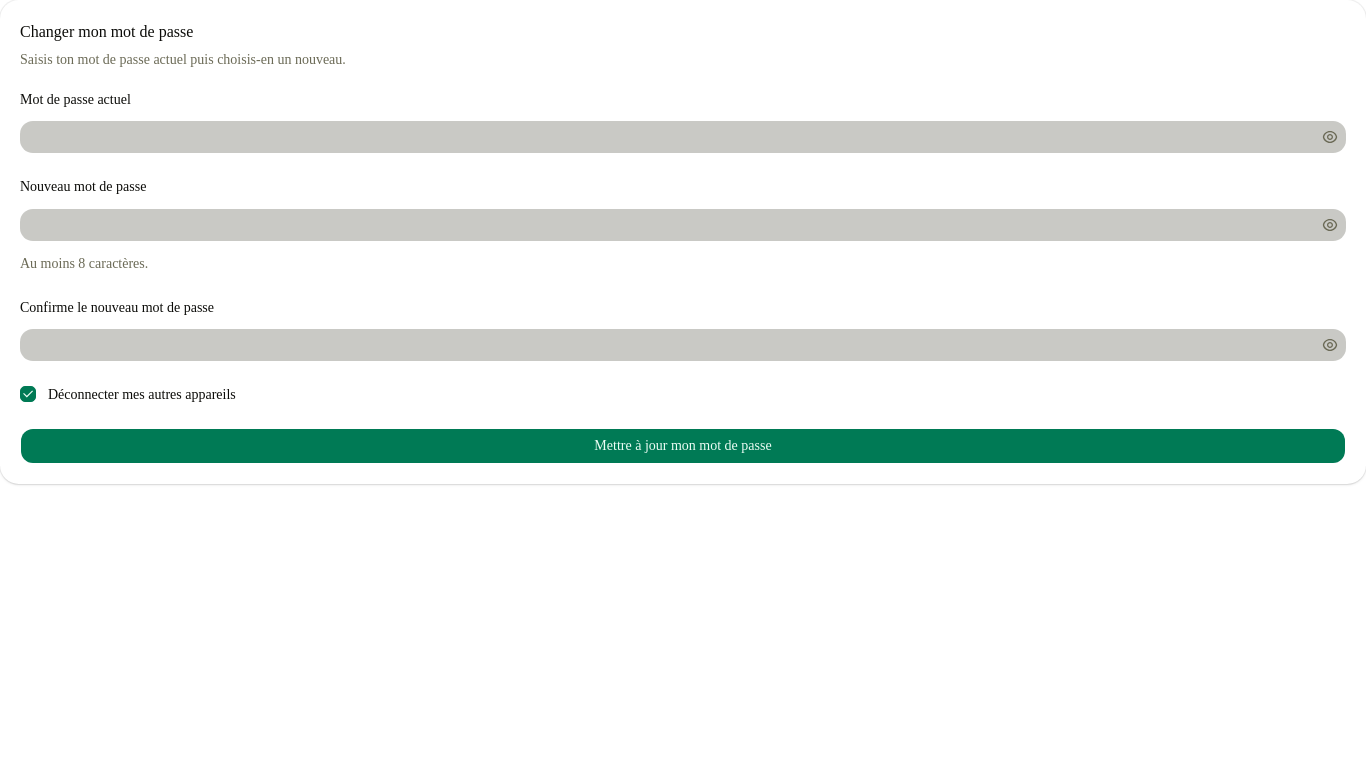
ChangePasswordForm › shows the server error when the current password is wrong
This screenshot has width=1366, height=768.
Type "old-password" into the password field labelled "Mot de passe actuel".
click(669, 137); type("old-password")  # box [21, 121, 1318, 153]
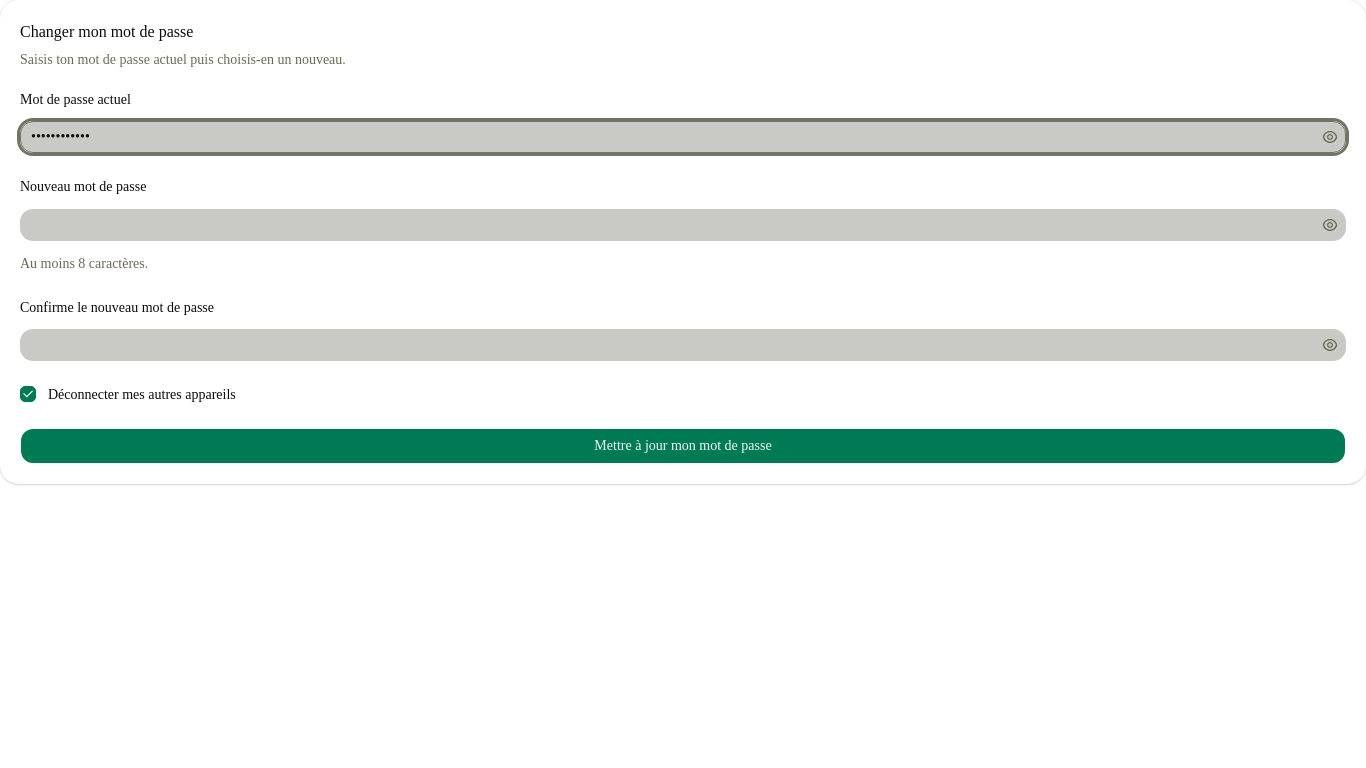
Type "new-password-1" into the password field labelled "Nouveau mot de passe".
click(669, 224); type("new-password-1")  # box [21, 208, 1318, 240]
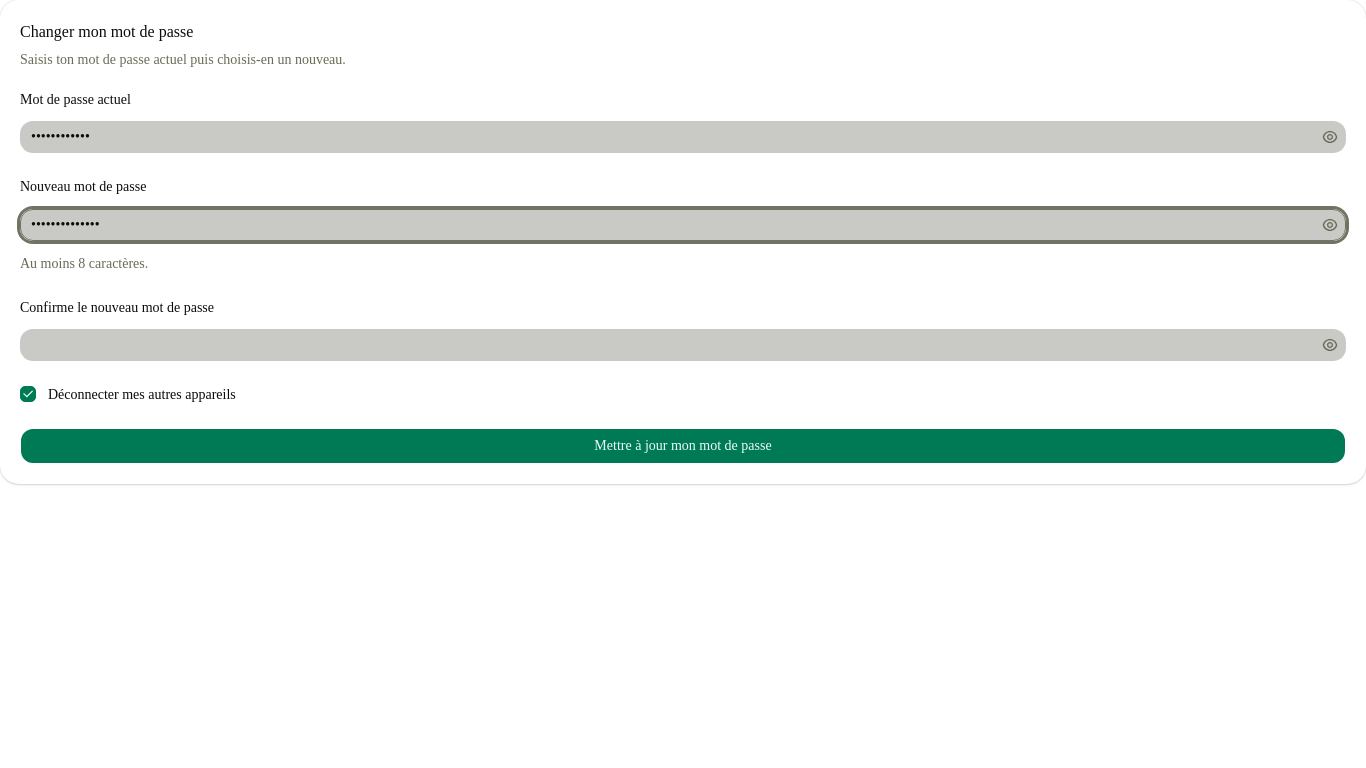
Type "new-password-1" into the password field labelled "Confirme le nouveau mot de passe".
click(669, 345); type("new-password-1")  # box [21, 329, 1318, 361]
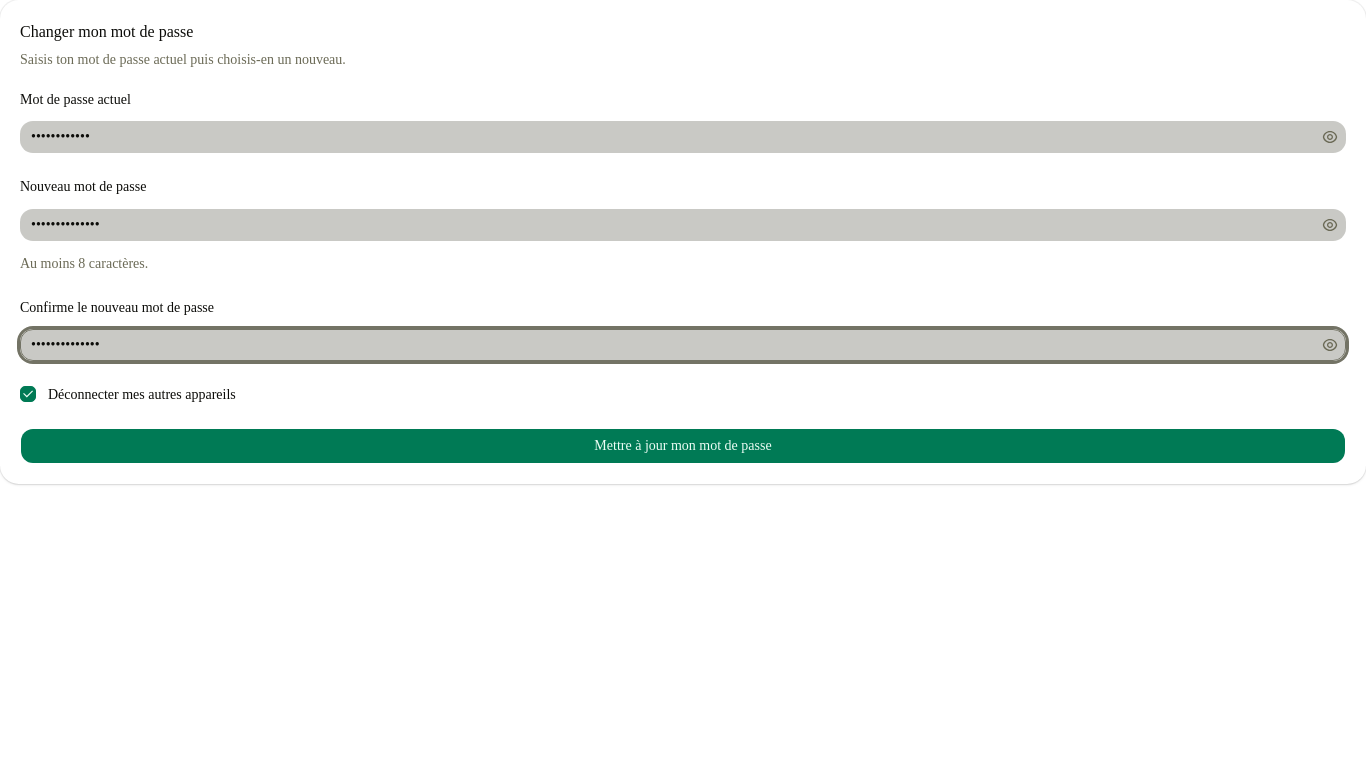
Click the button "Mettre à jour mon mot de passe".
click(683, 446)  # box [20, 428, 1346, 464]
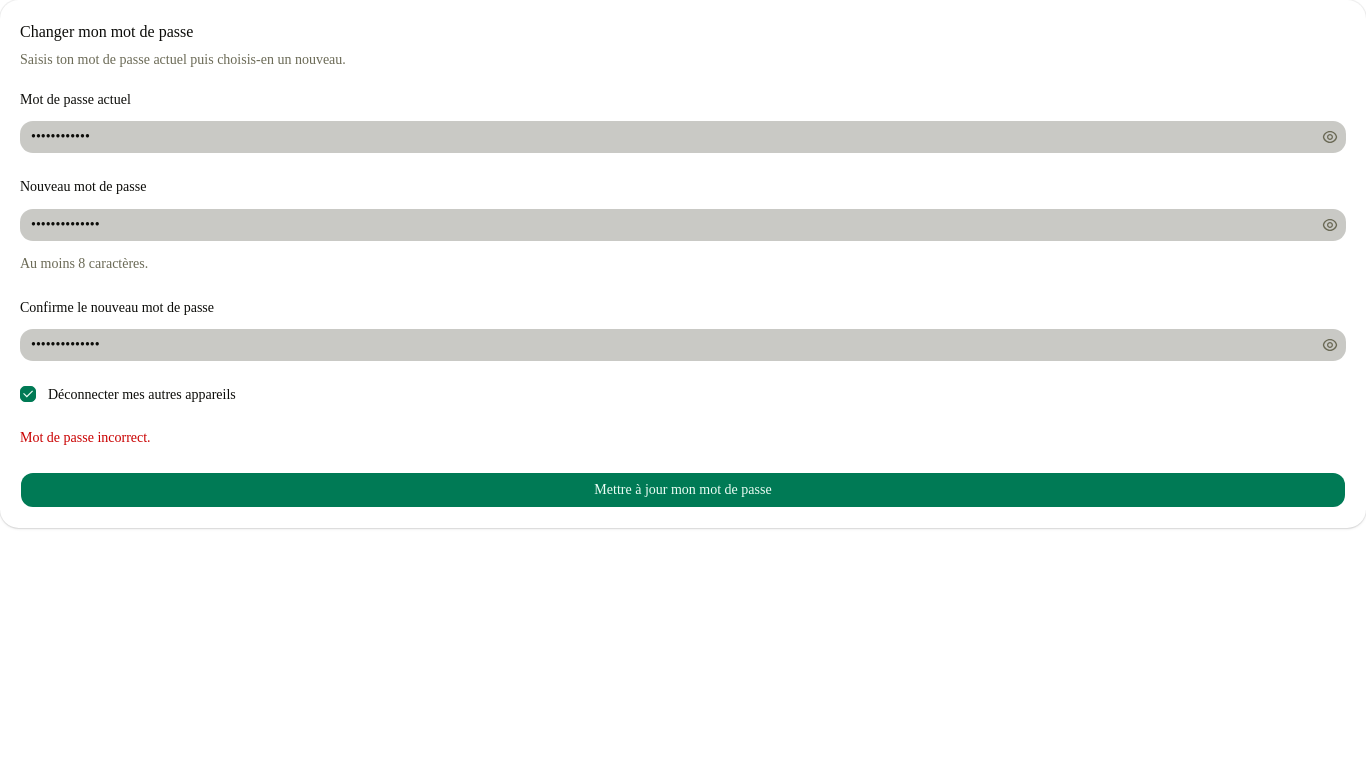
expect the text "Mot de passe incorrect." is shown: met, box [20, 430, 151, 445]
